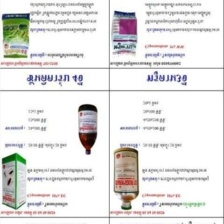carton: (0, 151, 28, 211)
insecticide: (111, 145, 140, 211), (109, 6, 140, 59), (0, 8, 31, 60), (73, 103, 99, 158)
